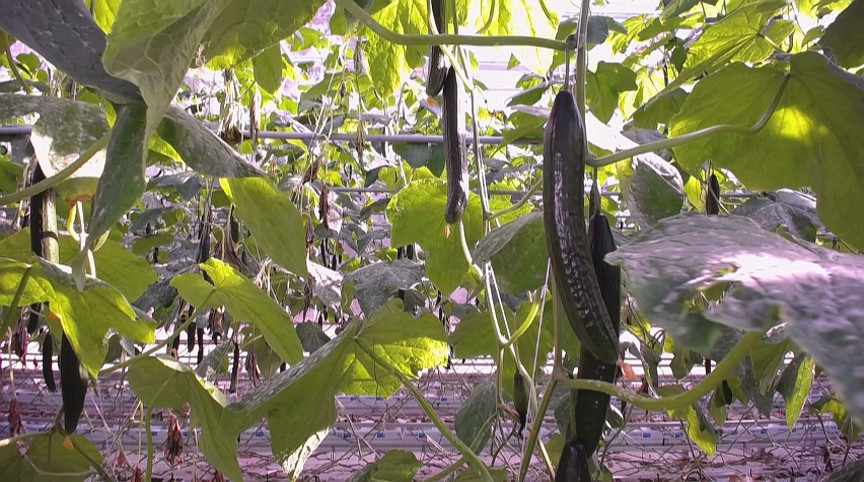cucumber: (545, 90, 619, 364), (579, 214, 618, 453), (442, 67, 470, 226), (30, 161, 61, 265), (63, 327, 88, 433), (426, 1, 451, 96), (557, 444, 592, 482), (707, 175, 719, 214)
